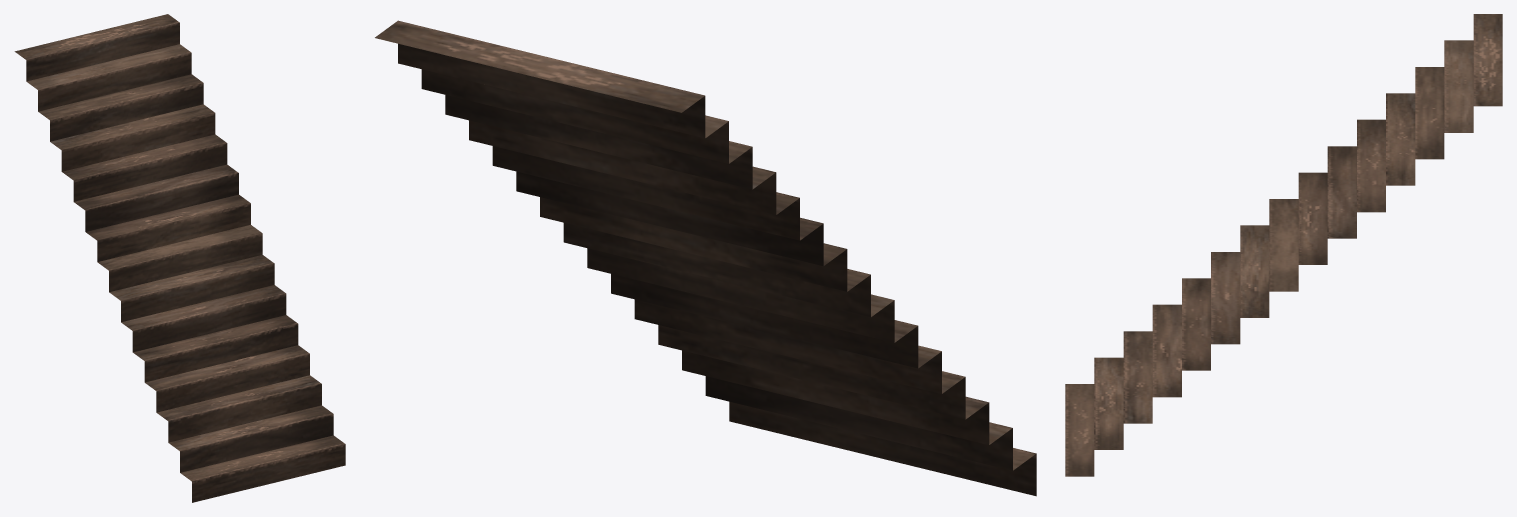
File: Stair.Narrow_Full.fbx
3 renders of one model, left to right at view 1: azimuth 30°, elevation 25°; view 2: azimuth 150°, elevation 25°; view 3: azimuth 270°, elevation 25°, orthographic. The views are drawn at different scales.
Parts seen in each view (by area): view 1: Stair.Narrow_Full; view 2: Stair.Narrow_Full; view 3: Stair.Narrow_Full.
Boxes of the visible parts, x1=… form: Stair.Narrow_Full: x1=14, y1=14, x2=345, y2=502; Stair.Narrow_Full: x1=375, y1=20, x2=1036, y2=496; Stair.Narrow_Full: x1=1065, y1=14, x2=1502, y2=476.
Size of the model in its own units: 150 by 300 by 300.
